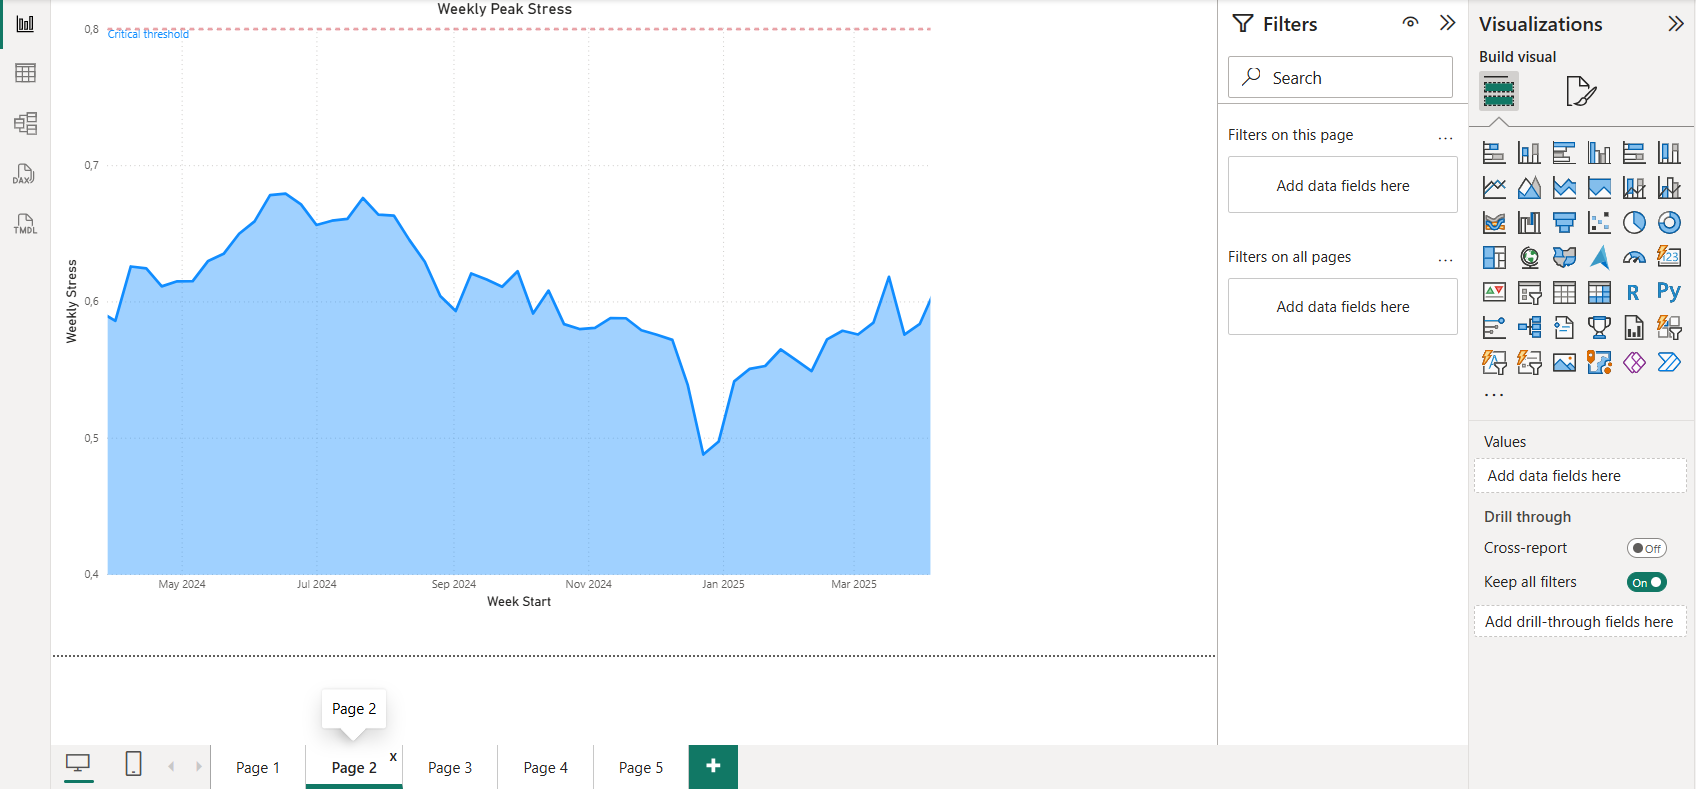

This screenshot's page, from the dashboard's own definition file:
{"tool":"powerbi","page":{"name":"Page 2","canvas":[1280,720],"ordinal":1},"visuals":[{"type":"stackedAreaChart","title":"Weekly Peak Stress","fields":{"Category":["public vw_power_bi_weekly.week_start"],"Y":["Max(public vw_power_bi_weekly.weekly_peak_stress)"]},"box":[9.6,0,977,675.1],"z":0}]}

Visuals, with their boxes on the page's 1280x720 design canvas (x1, y1, x2, y2). These are canvas units, not pixel positions in the 1696x789 screenshot, which may show the page scaled, cropped or inside an application window:
"Weekly Peak Stress" stackedAreaChart: rect(10, 0, 987, 675)
